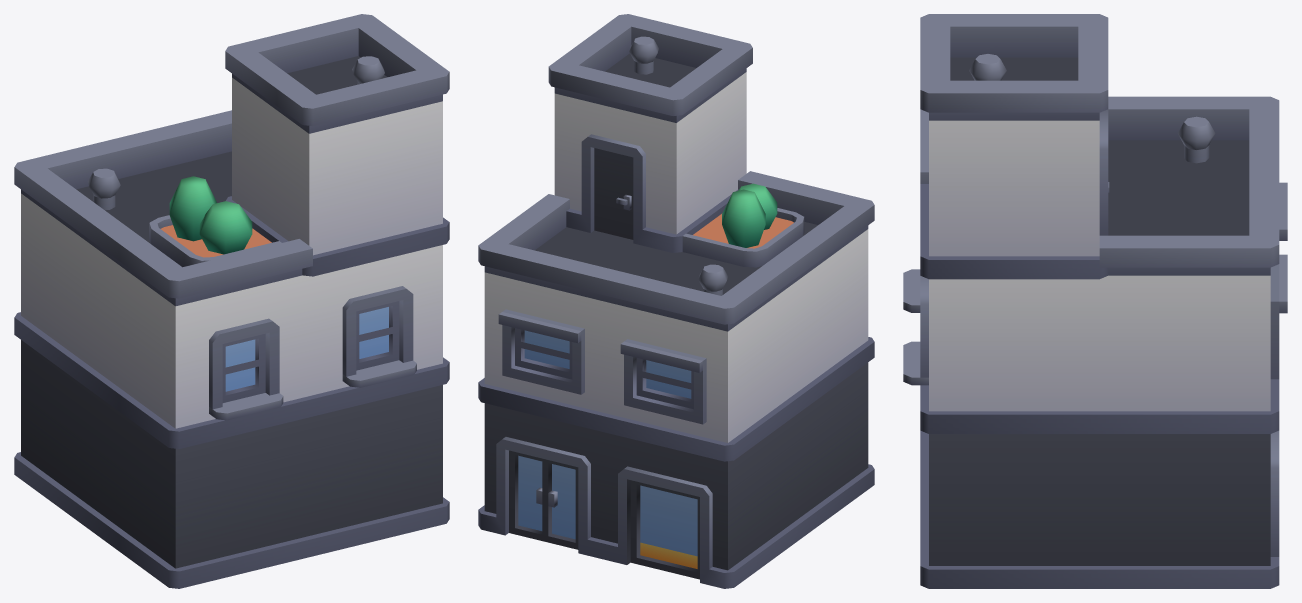
Rendered from k_c_building-d.glb.
3 views of the same model, side by side, from view 1: azimuth 30°, elevation 25°; view 2: azimuth 150°, elevation 25°; view 3: azimuth 270°, elevation 25° (orthographic). The views are drawn at different scales.
Parts seen in each view (by area): view 1: building-d; view 2: building-d; view 3: building-d.
Part boxes in pixels (x1,y1,x2,y2): building-d: [14, 14, 449, 588]; building-d: [478, 14, 874, 588]; building-d: [903, 14, 1287, 588].
Size of the model in its own units: 0.84 by 1.29 by 0.9.
Materials: 1 (1 with a texture image).
